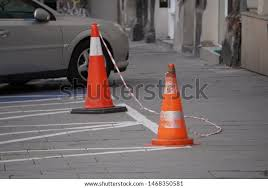car: (1, 1, 130, 82)
cone: (74, 24, 121, 113), (153, 63, 190, 145)
